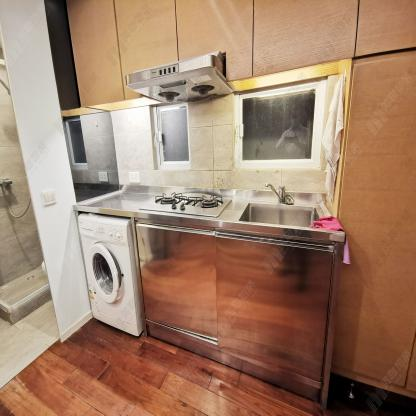Exhaust Hood: (125, 49, 237, 104)
Faucet: (264, 180, 292, 204)
Sink: (234, 199, 328, 232)
Stove: (132, 188, 241, 224)
Washing Machine: (77, 214, 144, 337)
